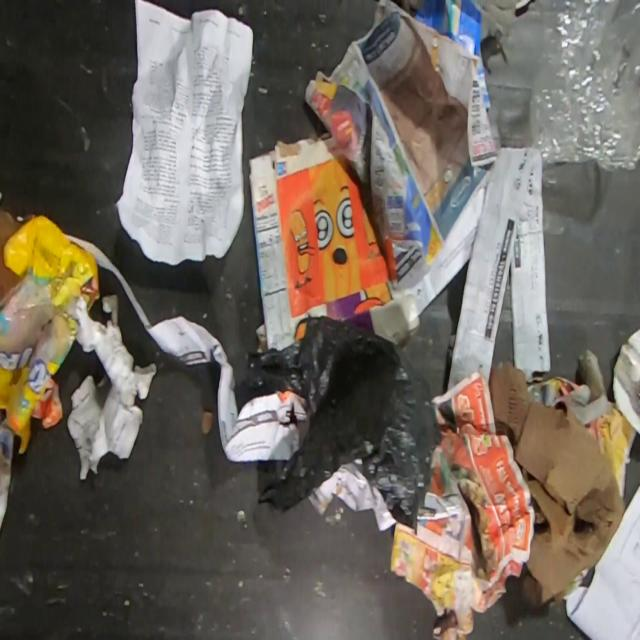cardboard: (248, 131, 421, 351), (488, 358, 625, 609), (0, 209, 22, 300)
soft_plastic: (243, 311, 442, 534), (0, 212, 100, 454), (529, 0, 640, 189)
